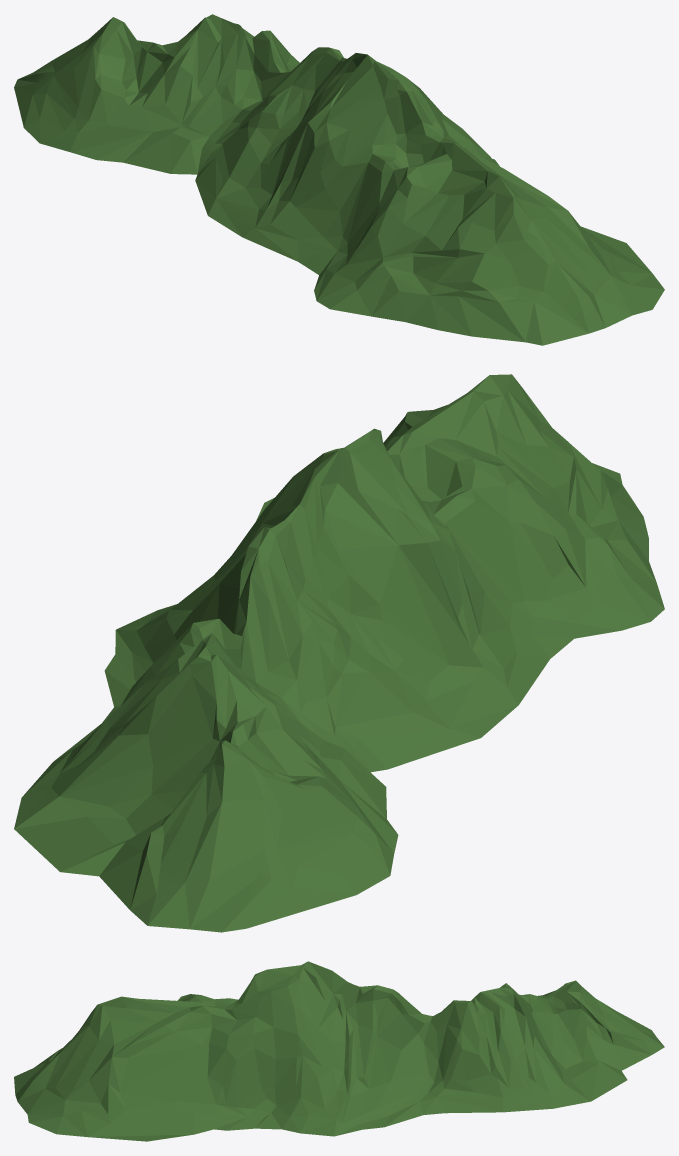
Rendered from SM_Env_Background_Hills_01.glb.
3 views of the same model, one above another, from view 1: azimuth 30°, elevation 25°; view 2: azimuth 150°, elevation 25°; view 3: azimuth 270°, elevation 25° (orthographic). The views are drawn at different scales.
Visible parts, largest first — view 1: node_id4; view 2: node_id4; view 3: node_id4.
Part boxes in pixels (<box>): node_id4: <box>14,14,664,345</box>; node_id4: <box>14,374,664,932</box>; node_id4: <box>14,961,664,1141</box>.
Size of the model in its own units: 0.512 by 0.2198 by 1.08.
Materials: 1 (1 with a texture image).
